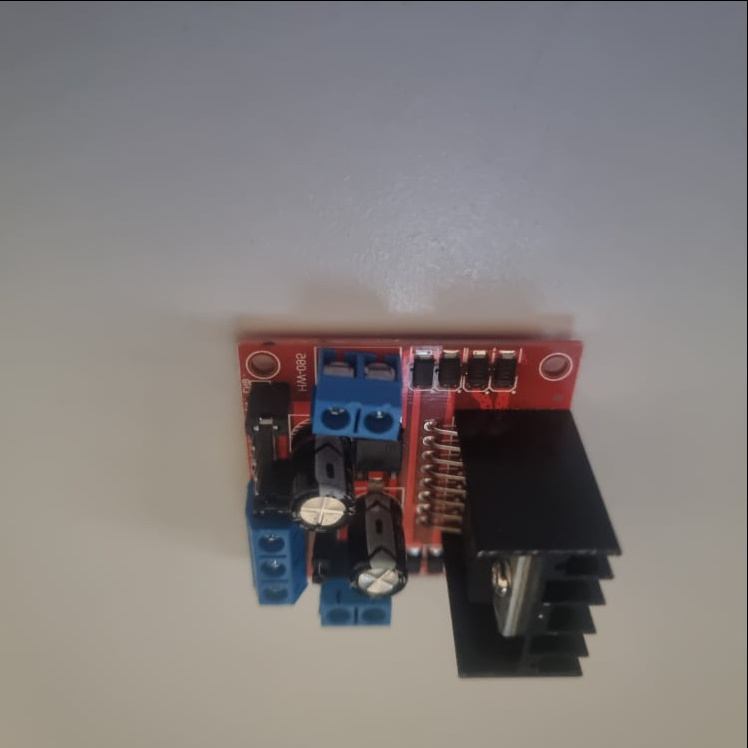MOTOR: (241, 338, 623, 679)
